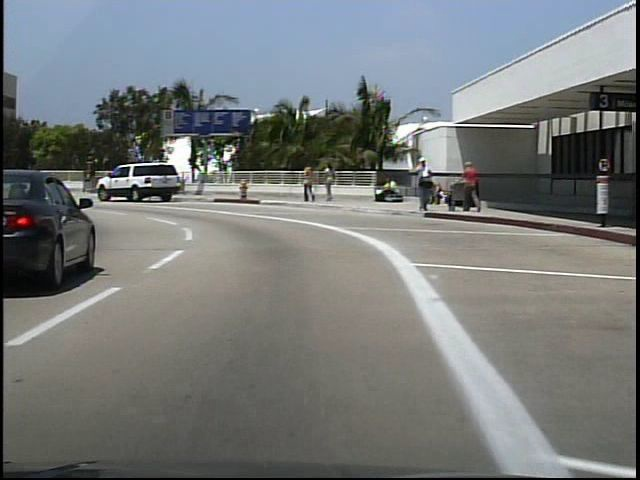person: (410, 155, 433, 218), (463, 157, 483, 213), (322, 161, 339, 207), (374, 175, 396, 205), (304, 161, 318, 205)
